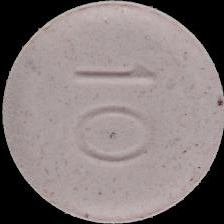59148-640: (0, 0, 224, 224)
